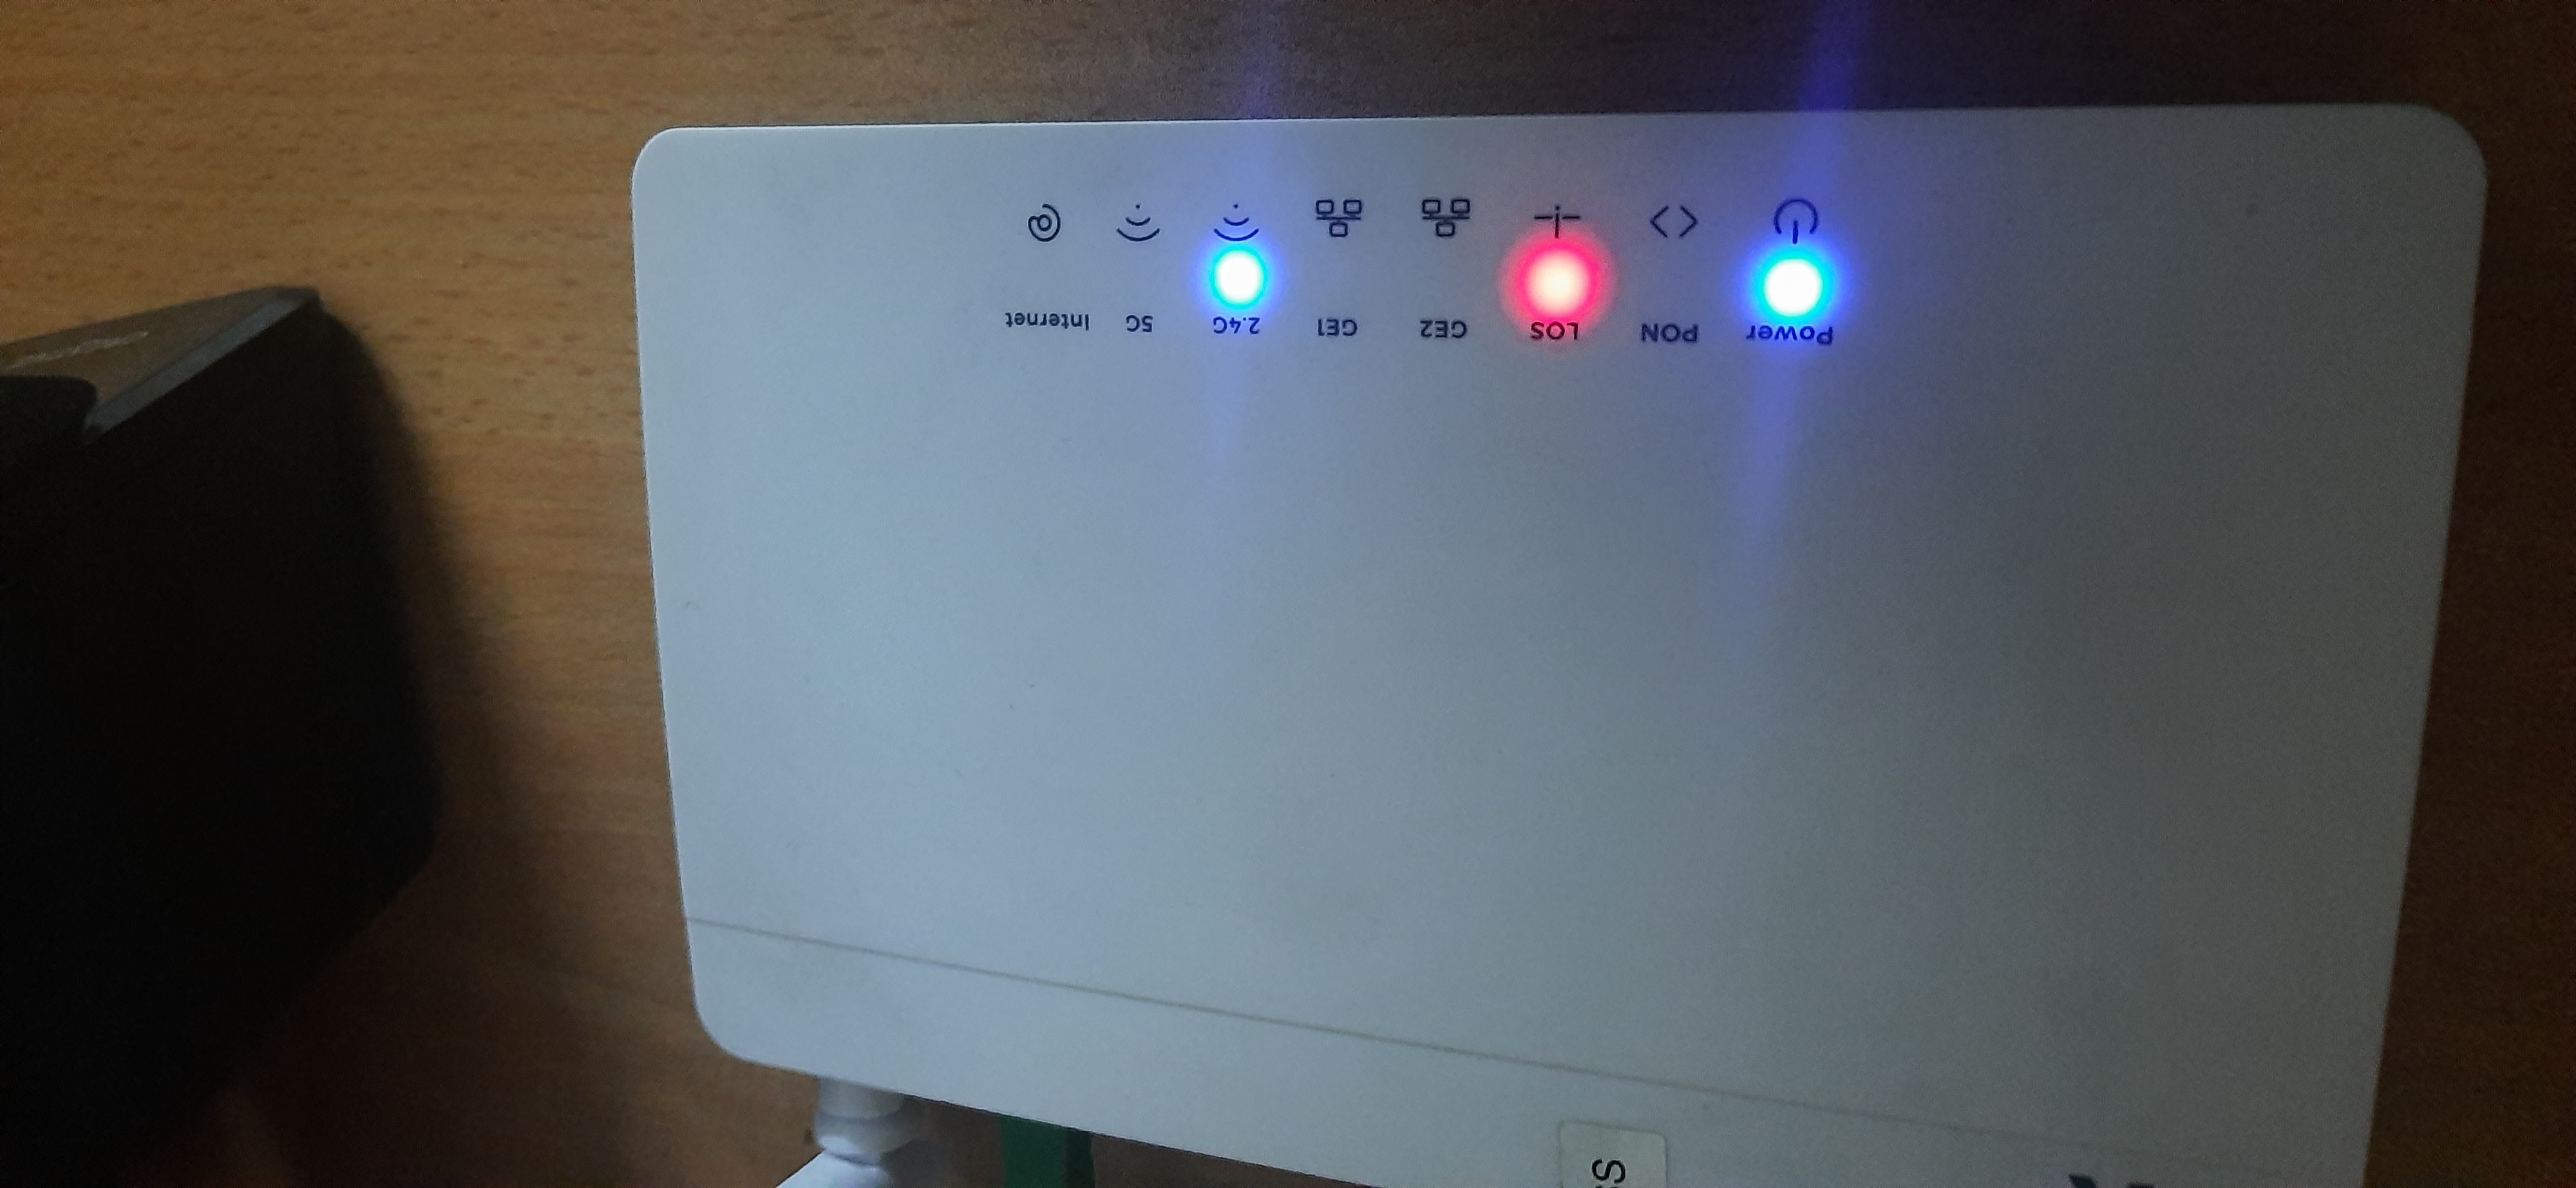LOSConnectionIssue: (1488, 169, 1631, 380)
